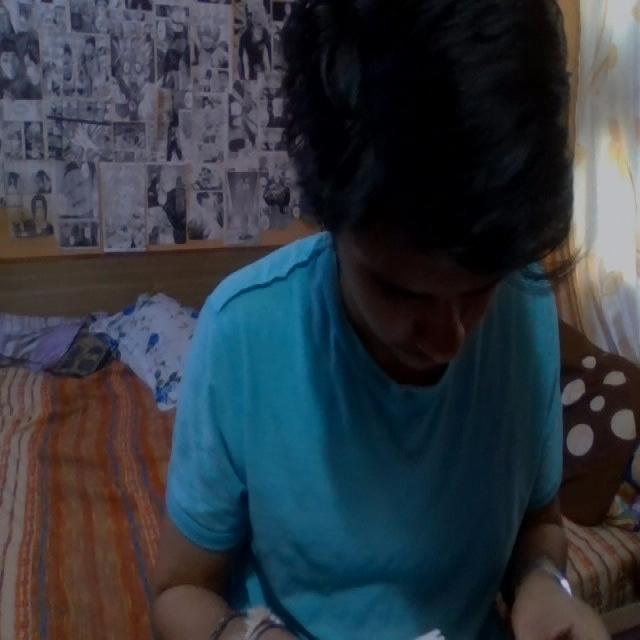focused: (155, 1, 606, 640)
